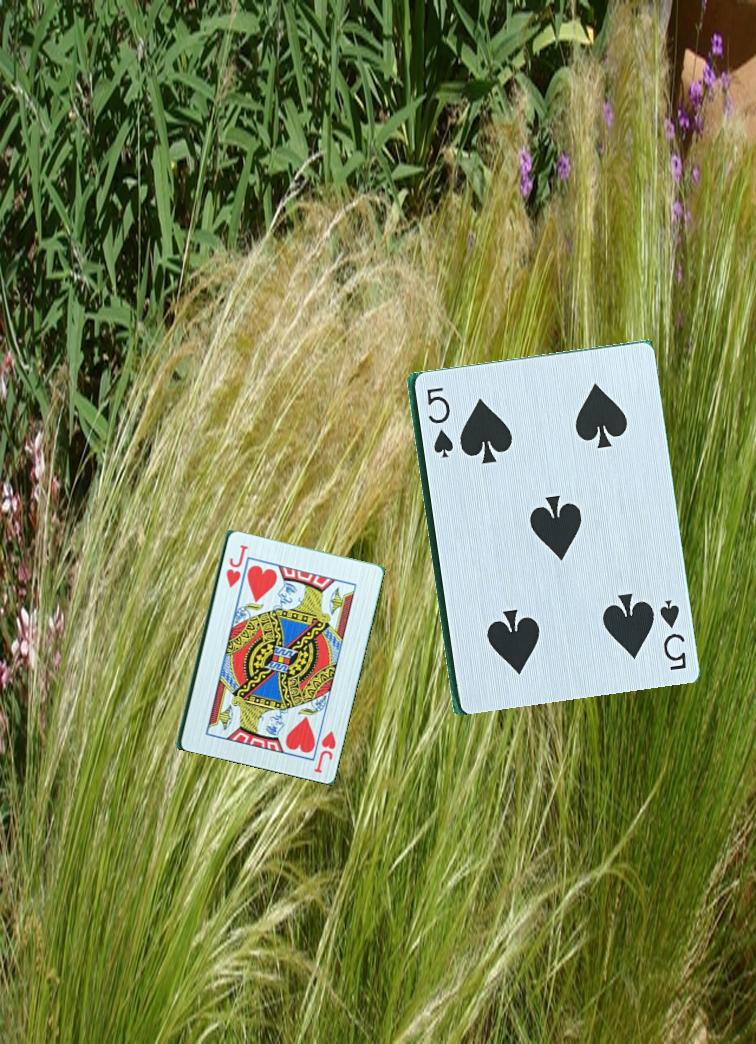5s: (651, 593, 689, 679), (421, 377, 454, 460)
jh: (310, 726, 339, 776), (222, 541, 249, 591)
